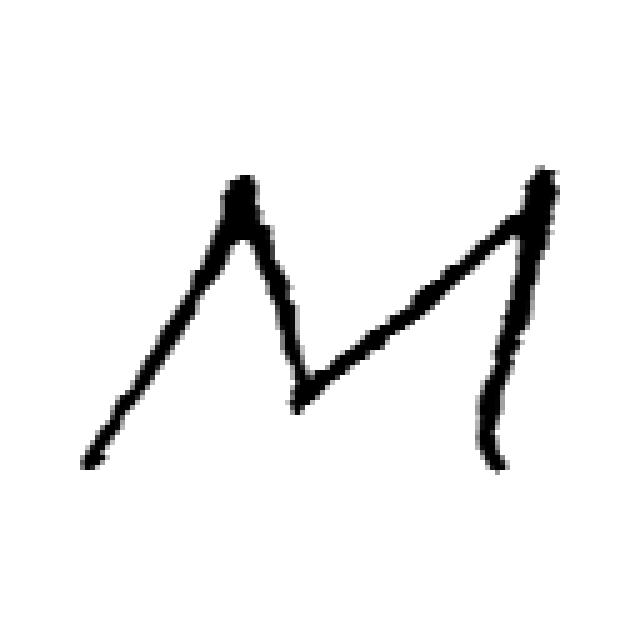M: (82, 168, 556, 476)
